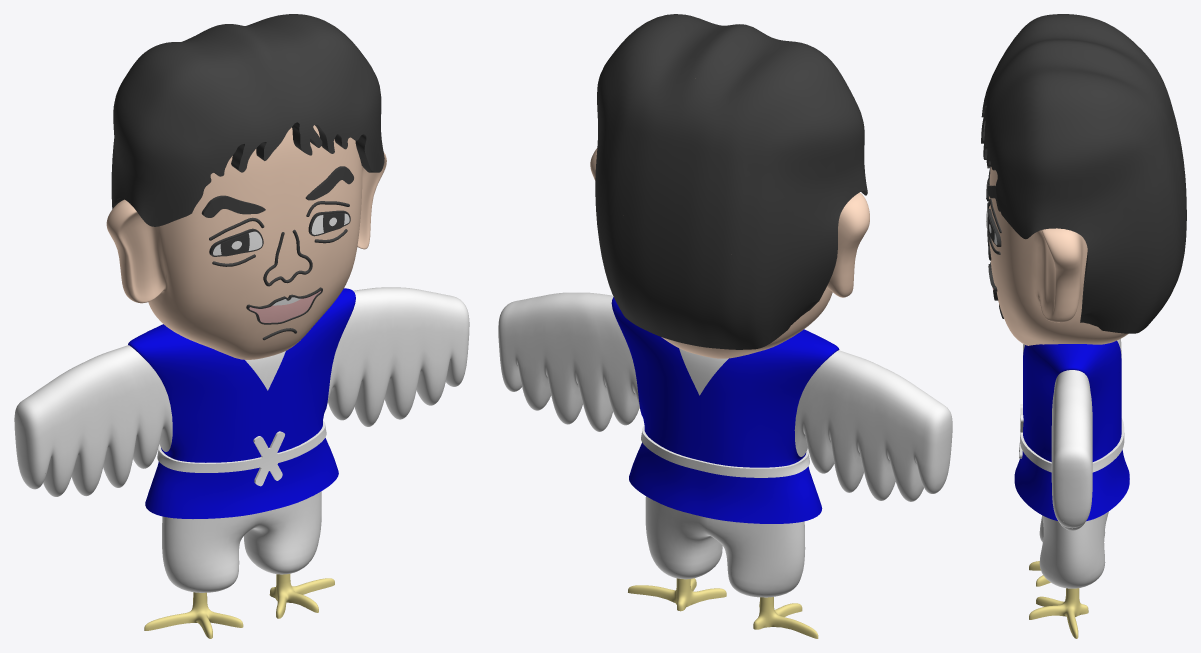
3 renders of one model, left to right at view 1: azimuth 30°, elevation 25°; view 2: azimuth 150°, elevation 25°; view 3: azimuth 270°, elevation 25°, orthographic. The views are drawn at different scales.
Parts seen in each view (by area): view 1: 002_yamachan; view 2: 002_yamachan; view 3: 002_yamachan.
Part boxes in pixels (x1,y1,x2,y2): 002_yamachan: (14,14,469,638); 002_yamachan: (498,14,952,638); 002_yamachan: (981,14,1186,638).
Bounding box in the file's own units: 0.1677 × 0.2089 × 0.0705.
